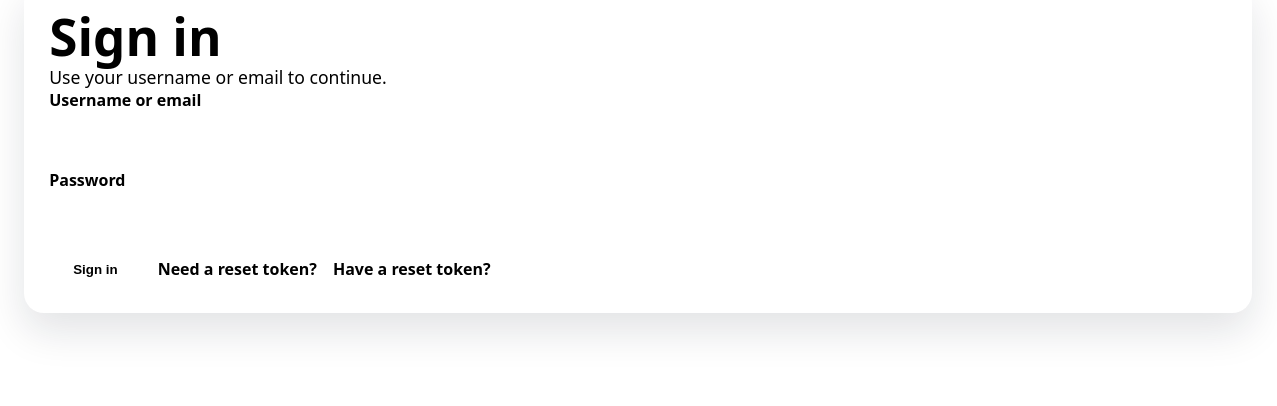
Test: LoginPage › shows validation messages when fields are empty
What coordinates should you click on to do the following:
click the button "Sign in"
I would click on:
 (95, 269)
Its box is top-left (49, 250), bottom-right (142, 288).
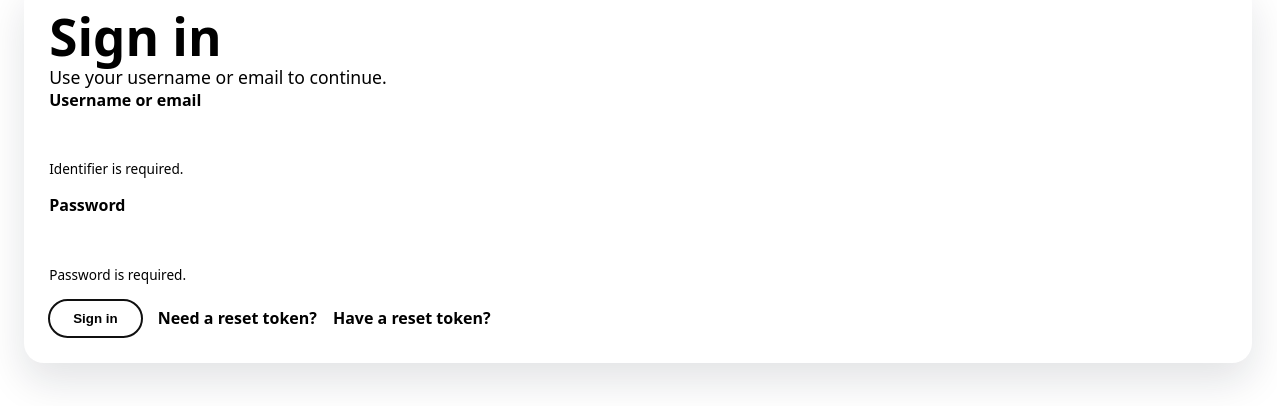
expect the text "Identifier is required." is shown: met, box top-left (49, 159), bottom-right (184, 178)
expect the text "Password is required." is shown: met, box top-left (49, 265), bottom-right (186, 284)
